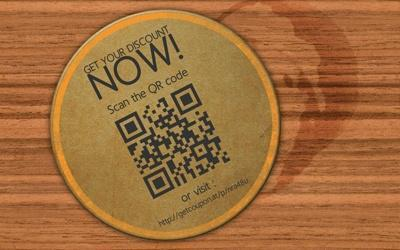qr_code: (114, 83, 232, 199)
